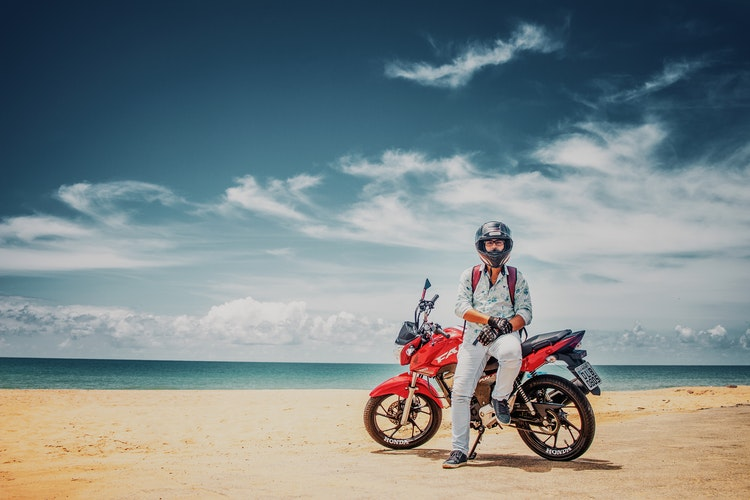helmet: (474, 220, 513, 272)
